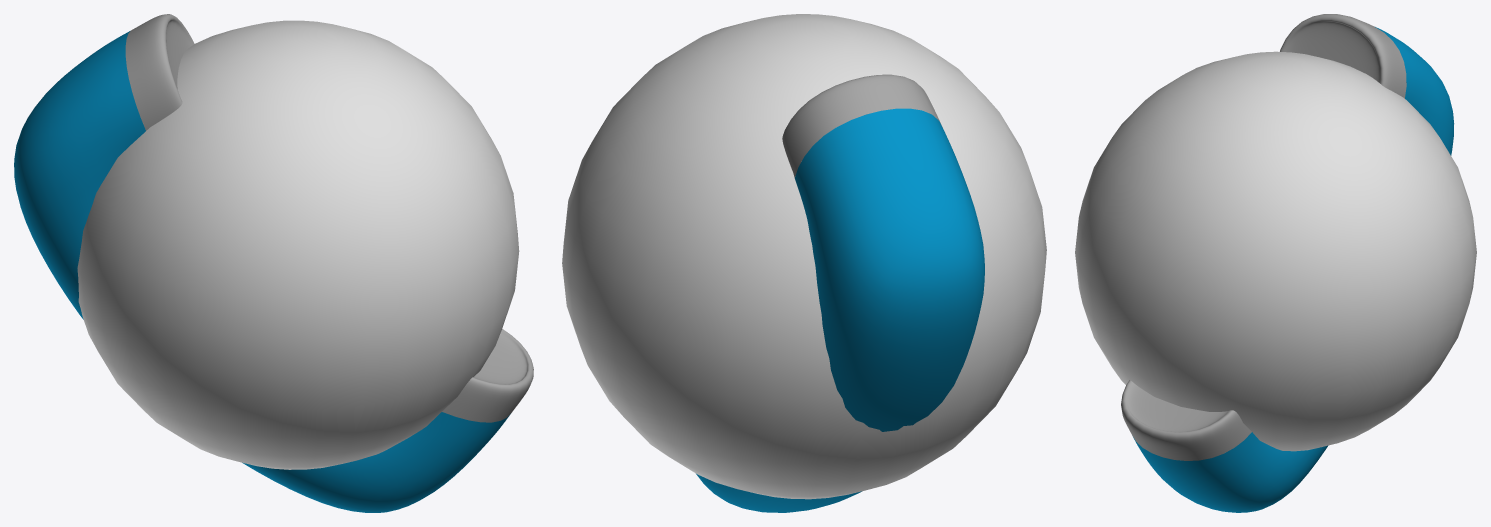
The model's file is call-phone-3d-animated-icon-1685520638554.glb.
The picture shows the model from 3 angles, left to right: view 1: azimuth 30°, elevation 25°; view 2: azimuth 150°, elevation 25°; view 3: azimuth 270°, elevation 25°; orthographic projection. The views are drawn at different scales.
Visible parts, largest first — view 1: Sphere.002, Cube.022; view 2: Sphere.002, Cube.022; view 3: Sphere.002, Cube.022.
Boxes of the visible parts, <box> form: Sphere.002: <box>77,20,519,469</box>; Cube.022: <box>14,14,533,512</box>; Sphere.002: <box>562,14,1046,499</box>; Cube.022: <box>696,74,984,512</box>; Sphere.002: <box>1075,51,1476,451</box>; Cube.022: <box>1121,14,1454,512</box>.
Size of what is drawn, in the model's own units: 1.37 by 1.51 by 1.3.
